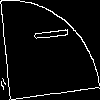I: (25, 25, 68, 44)
